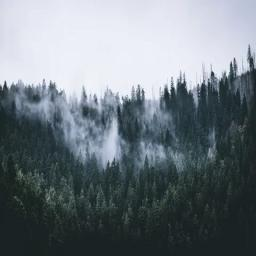Low smoke: (13, 73, 221, 173)
